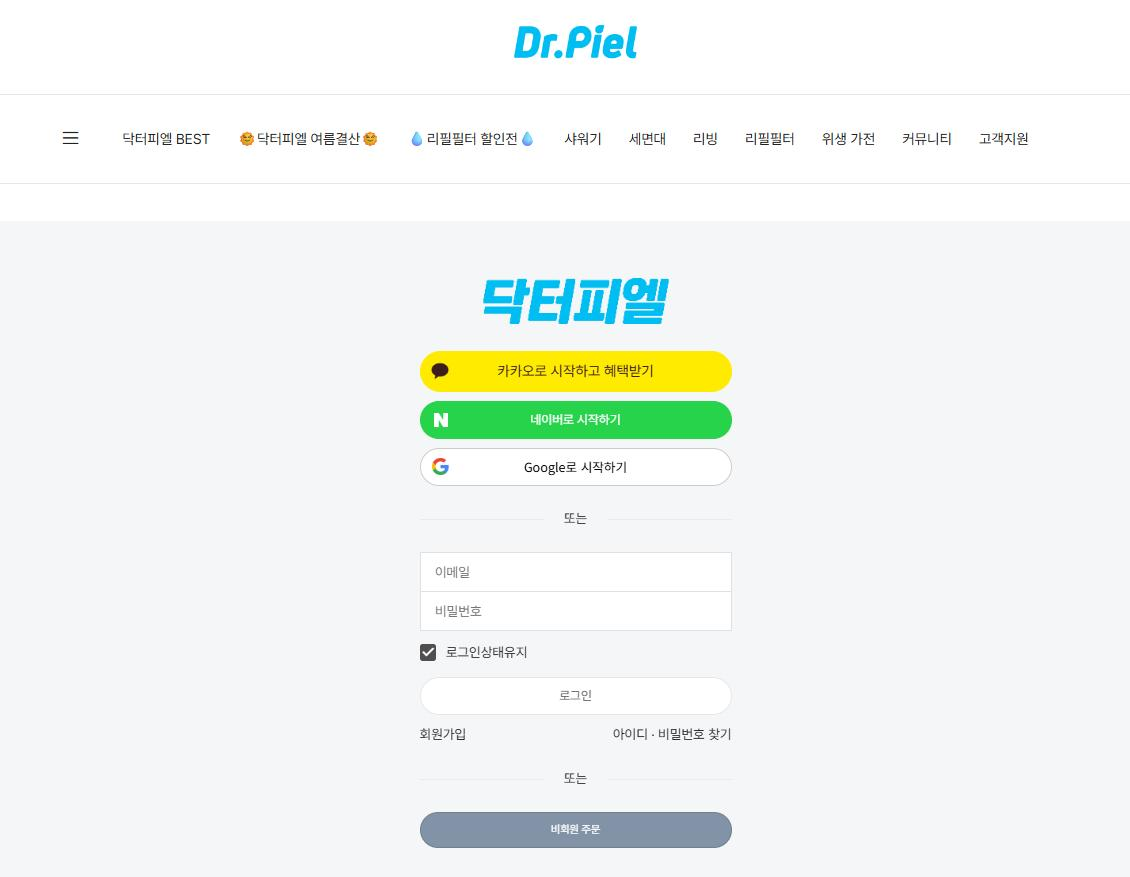button: (421, 811, 728, 853), (420, 448, 736, 488), (424, 350, 734, 390), (420, 402, 733, 438), (421, 680, 731, 709), (236, 124, 379, 156), (405, 124, 531, 159), (118, 124, 223, 154), (890, 125, 958, 152), (744, 126, 808, 153), (554, 129, 610, 159), (978, 123, 1038, 151), (818, 125, 876, 149), (622, 125, 675, 151), (664, 728, 735, 741), (686, 128, 725, 151), (60, 128, 89, 151), (409, 728, 469, 739), (611, 726, 650, 740)
checkbox: (419, 640, 529, 660)
input_field: (420, 558, 729, 591), (421, 594, 728, 626)
